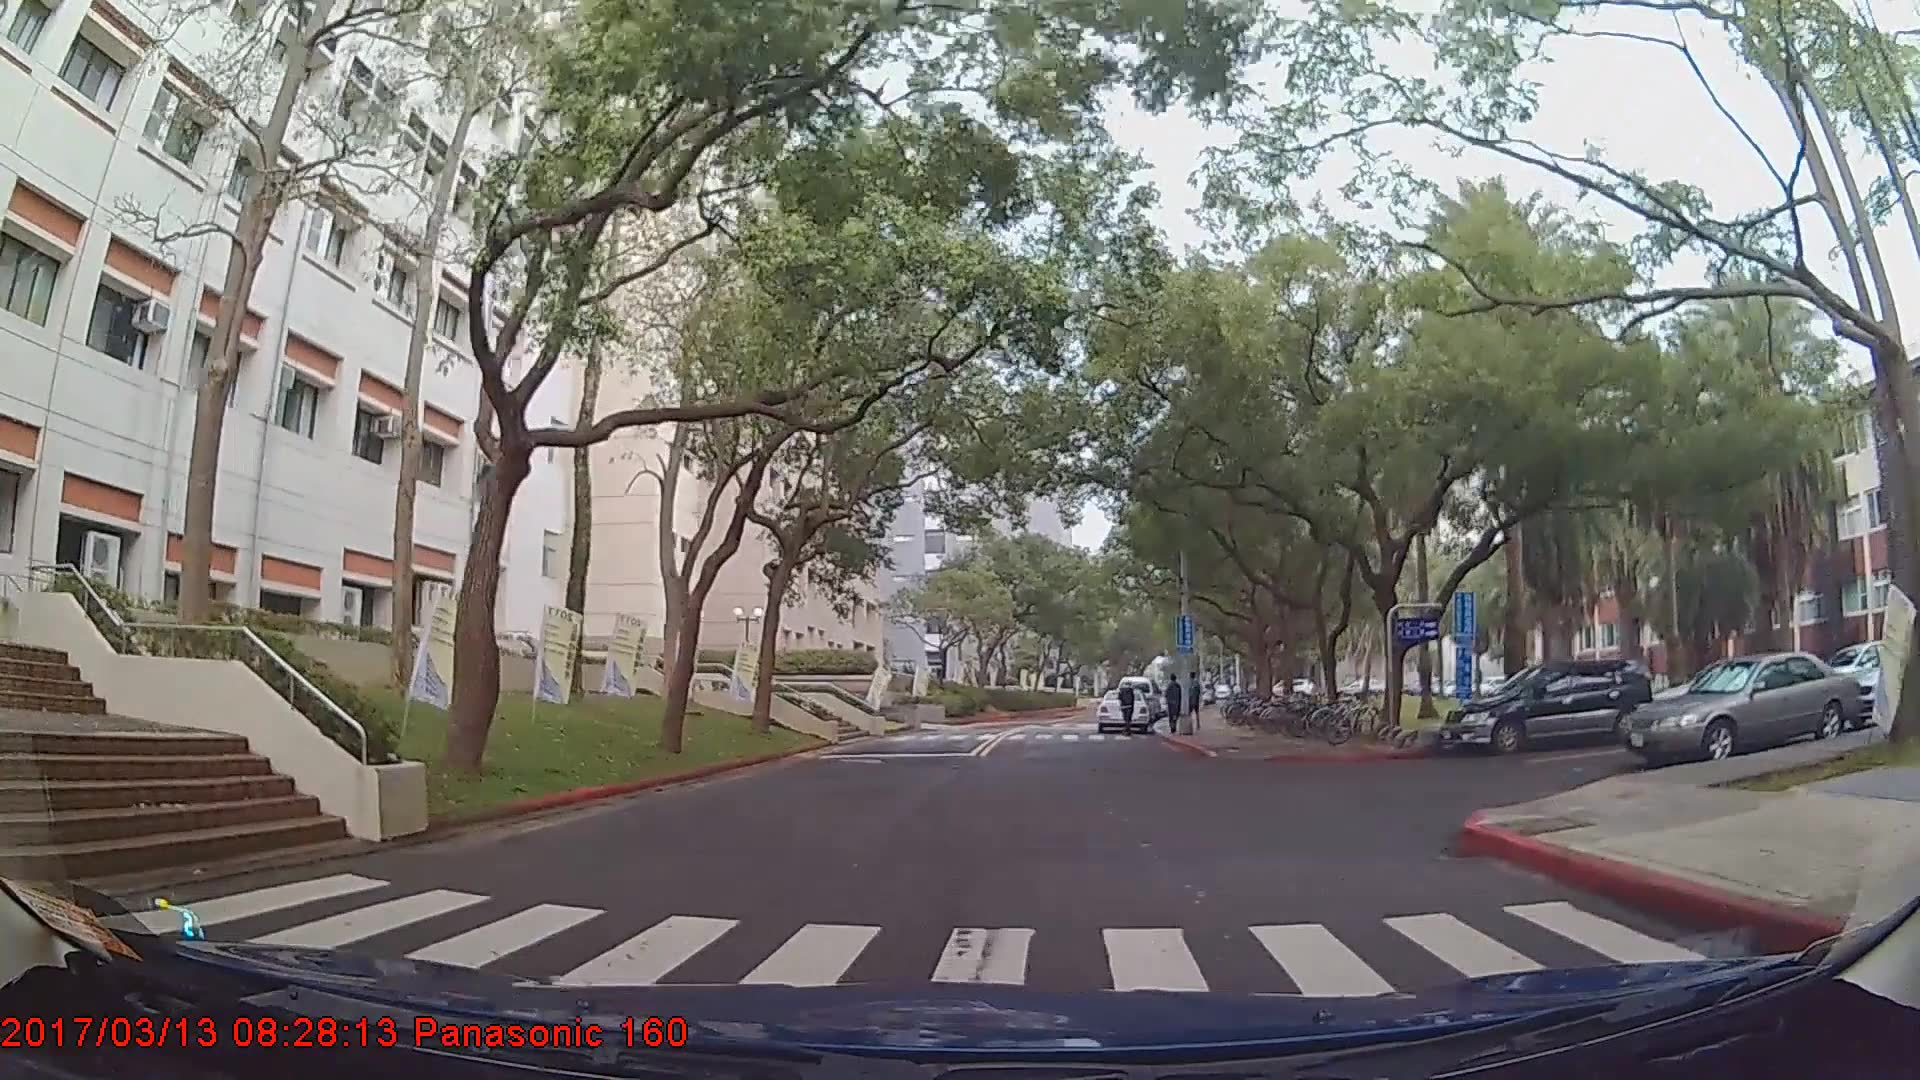pedestrian: (1166, 677, 1188, 732), (1117, 682, 1137, 740)
vehicle: (1624, 650, 1860, 767), (1444, 656, 1654, 757), (1091, 686, 1149, 732)
